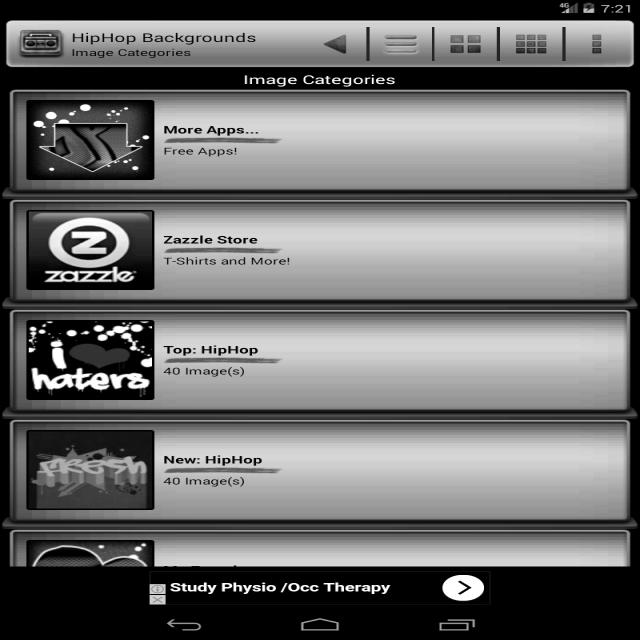ImageButton: (429, 575, 504, 601), (509, 23, 556, 58), (442, 29, 494, 57), (379, 31, 428, 58), (322, 30, 353, 60), (580, 29, 613, 55)
ImageView: (16, 208, 154, 294), (19, 98, 155, 180), (22, 317, 160, 397), (29, 425, 157, 509)
TextView: (161, 232, 297, 268), (158, 455, 285, 487), (161, 343, 266, 379), (162, 123, 259, 157), (176, 580, 394, 594), (70, 29, 260, 43), (234, 69, 400, 85), (67, 45, 198, 57)
